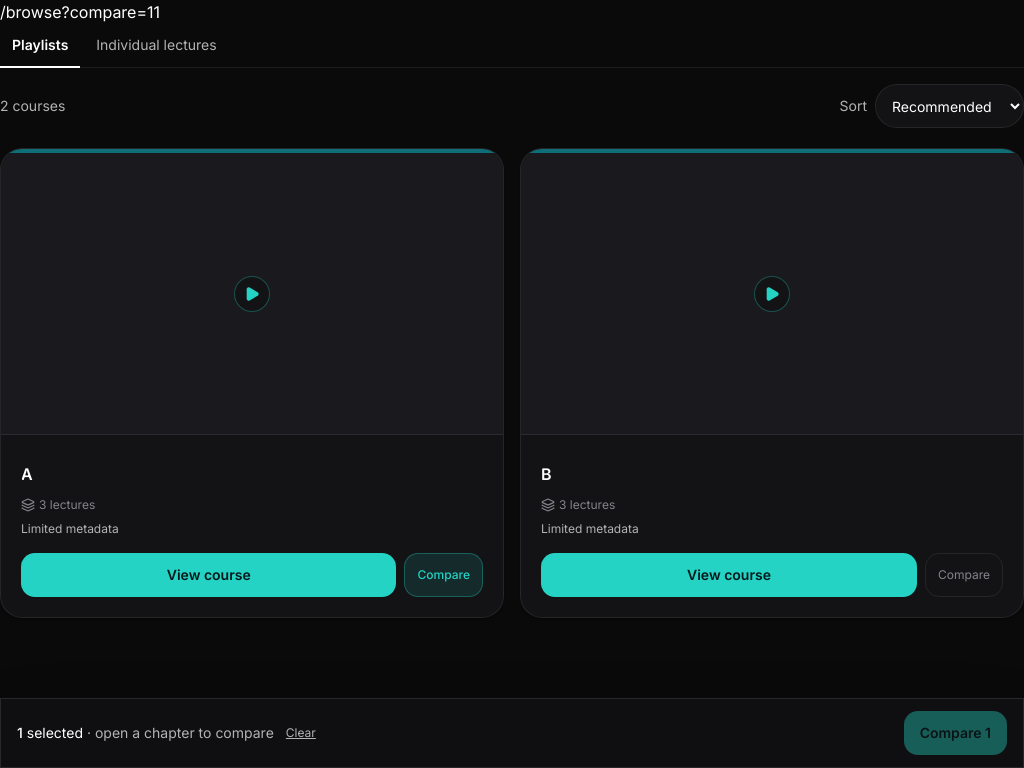
Test: comparison › deselects on a second click and drops the param when empty
What coordinates should you click on to do the following:
click the 1st checkbox labelled "Compare"
I would click on:
 (444, 575)
Its box is [404,553,483,597].
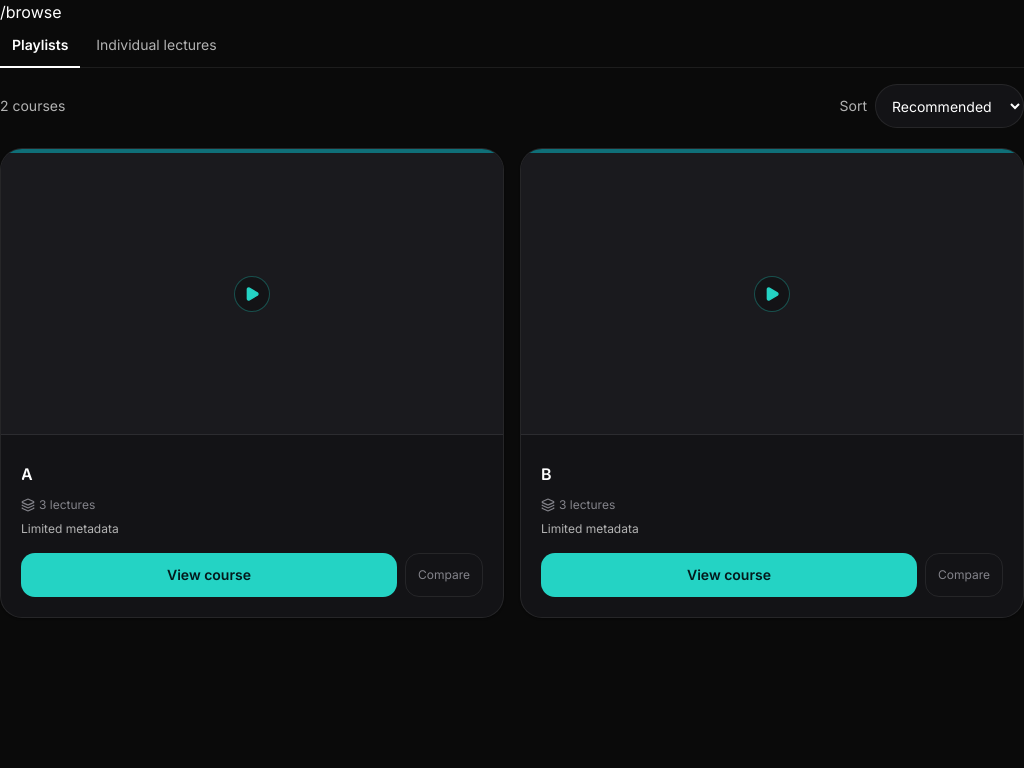
Expected: the element with test id "loc" no longer shows "compare"
